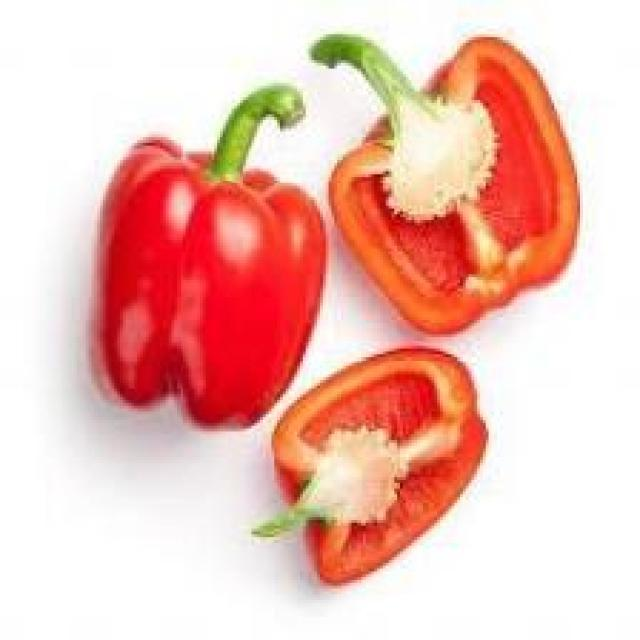Pepper: (89, 97, 326, 429)
